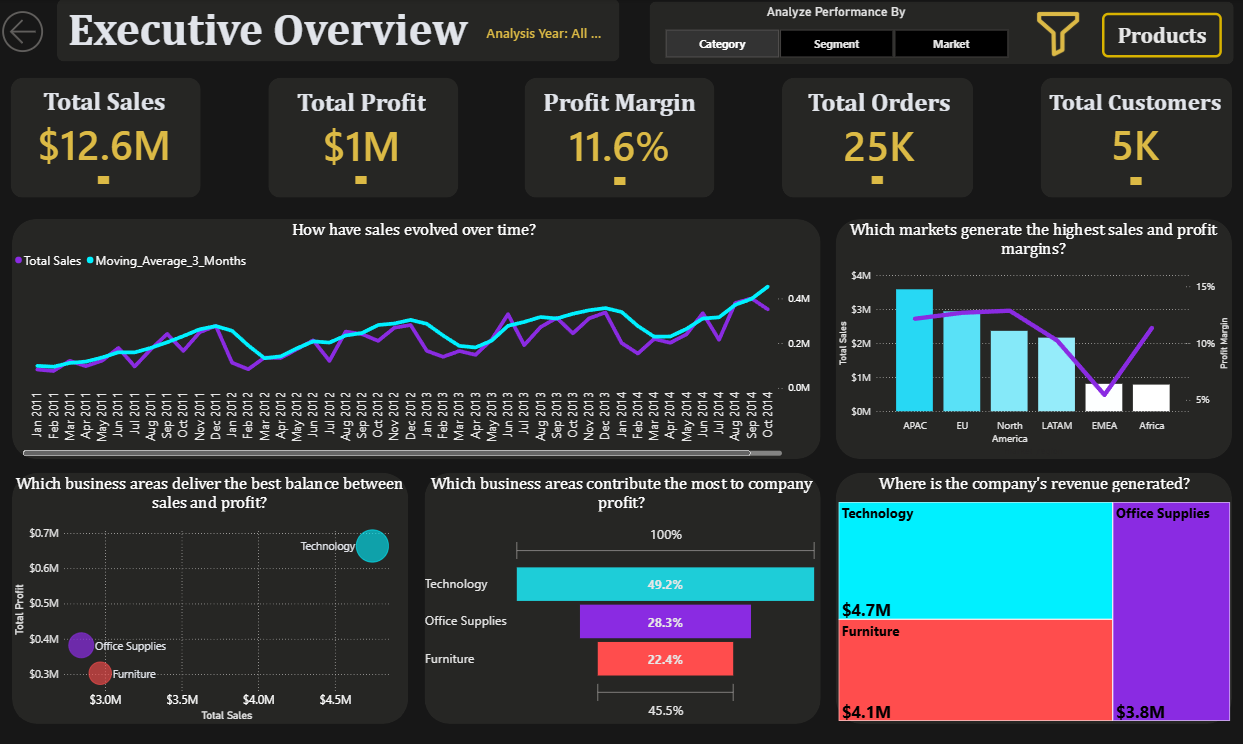

What the dashboard file says about the page in this screenshot:
{"tool":"powerbi","page":{"name":"Executive","canvas":[2005,1200],"ordinal":1},"visuals":[{"type":"shape","box":[21.9,126.7,305.6,193],"z":0},{"type":"shape","box":[96.5,0,904.8,100.5],"z":1000},{"type":"shape","box":[435.6,126.7,305.6,193],"z":2000},{"type":"shape","box":[589.1,458.4,721.4,89.4],"z":3000},{"type":"shape","box":[849.3,126.7,305.6,193],"z":4000},{"type":"shape","box":[24.1,353.9,1300.9,386.1],"z":5000},{"type":"shape","box":[1349.2,353.9,637.4,386.1],"z":6000},{"type":"shape","box":[1263.1,126.7,307.6,193],"z":7000},{"type":"shape","box":[1349.2,762.1,637.4,404.2],"z":8000},{"type":"shape","box":[1678.8,126.7,307.6,193],"z":9000},{"type":"shape","box":[687.7,762.1,637.4,404.2],"z":10000},{"type":"shape","box":[24.1,762.1,637.4,404.2],"z":11000},{"type":"textbox","box":[96.5,0,677.6,100.5],"z":12000},{"type":"cardVisual","fields":{"Data":["_Measures.Total Sales"]},"box":[22.1,126.7,301.6,162.9],"z":13000},{"type":"cardVisual","fields":{"Data":["_Measures.Total Profit"]},"box":[437.2,125.8,300.7,166.3],"z":14000},{"type":"cardVisual","fields":{"Data":["_Measures.Profit Margin"]},"box":[839,126.4,326.5,165.7],"z":15000},{"type":"cardVisual","fields":{"Data":["_Measures.Total Orders"]},"box":[1266.2,126.4,304.5,165.7],"z":16000},{"type":"cardVisual","fields":{"Data":["_Measures.Total Customers"]},"box":[1662.8,126.4,336.2,165.7],"z":17000},{"type":"lineChart","title":"How have sales evolved over time?","fields":{"Category":["public dim_date.year_month"],"Y":["_Measures.Total Sales"],"Y2":["_Measures.Moving_Average_3_Months"]},"box":[22.6,353.7,1296.7,385.7],"z":18000},{"type":"lineStackedColumnComboChart","title":"Which markets generate the highest sales and profit margins?","fields":{"Category":["public dim_location.market_region"],"Y":["_Measures.Total Sales"],"Y2":["_Measures.Profit Margin"]},"box":[1347.2,353.9,639.4,386.1],"z":19000},{"type":"treemap","title":"Where is the company''s revenue generated?","fields":{"Group":["public product_dim.category"],"Values":["_Measures.Total Sales"]},"box":[1349.2,762.1,639.4,404.2],"z":20000},{"type":"funnel","title":"Which business areas contribute the most to company profit?","fields":{"Category":["public product_dim.category"],"Y":["_Measures.Profit Contribution"]},"box":[683.2,762.7,641,405],"z":21000},{"type":"scatterChart","title":"Which business areas deliver the best balance between sales and profit?","fields":{"Series":["public product_dim.category"],"Size":["_Measures.Total Profit"],"X":["_Measures.Total Sales"],"Y":["_Measures.Total Profit"]},"box":[22.1,762.1,639.4,404.2],"z":22000},{"type":"shape","box":[1048.8,4.1,939.8,100.8],"z":23000},{"type":"slicer","title":"Analyze Performance By","fields":{"Values":["Analyzed By.Analyzed By"]},"box":[1048.8,8.2,600.5,92.5],"z":24000},{"type":"image","box":[1650.8,8,113.1,92.5],"z":26000},{"type":"cardVisual","fields":{"Data":["_Measures.YoY Sales Label"]},"box":[0,260,343.3,58.1],"z":28000},{"type":"cardVisual","fields":{"Data":["_Measures.YoY Profit Label"]},"box":[414.2,259.4,343.3,58.1],"z":29000},{"type":"cardVisual","fields":{"Data":["_Measures.YoY Profit Margin Label"]},"box":[830.4,261.4,343.3,58.1],"z":30000},{"type":"cardVisual","fields":{"Data":["_Measures.YoY Orders Label"]},"box":[1244.6,259.4,343.3,58.1],"z":31000},{"type":"cardVisual","fields":{"Data":["_Measures.YoY Customers Label"]},"box":[1660.9,261.4,343.3,58.1],"z":32000},{"type":"cardVisual","fields":{"Data":["_Measures.Selected Year"]},"box":[758,8,249.3,92.5],"z":34000},{"type":"actionButton","box":[0,0,82.4,104.6],"z":35000},{"type":"actionButton","box":[1777.5,22.1,193,72.4],"z":35001}]}

Visuals, with their boxes in screenshot pixels (x1, y1, x2, y2), scaled from the page's 2005x1200 canvas onto the 1243x744 screenshot:
shape: pyautogui.locateOnScreen(14, 79, 203, 198)
shape: pyautogui.locateOnScreen(60, 0, 621, 62)
shape: pyautogui.locateOnScreen(270, 79, 460, 198)
shape: pyautogui.locateOnScreen(365, 284, 812, 340)
shape: pyautogui.locateOnScreen(527, 79, 716, 198)
shape: pyautogui.locateOnScreen(15, 219, 821, 459)
shape: pyautogui.locateOnScreen(836, 219, 1232, 459)
shape: pyautogui.locateOnScreen(783, 79, 974, 198)
shape: pyautogui.locateOnScreen(836, 473, 1232, 723)
shape: pyautogui.locateOnScreen(1041, 79, 1231, 198)
shape: pyautogui.locateOnScreen(426, 473, 821, 723)
shape: pyautogui.locateOnScreen(15, 473, 410, 723)
textbox: pyautogui.locateOnScreen(60, 0, 480, 62)
cardVisual - _Measures.Total Sales: pyautogui.locateOnScreen(14, 79, 201, 180)
cardVisual - _Measures.Total Profit: pyautogui.locateOnScreen(271, 78, 457, 181)
cardVisual - _Measures.Profit Margin: pyautogui.locateOnScreen(520, 78, 723, 181)
cardVisual - _Measures.Total Orders: pyautogui.locateOnScreen(785, 78, 974, 181)
cardVisual - _Measures.Total Customers: pyautogui.locateOnScreen(1031, 78, 1239, 181)
"How have sales evolved over time?" lineChart: pyautogui.locateOnScreen(14, 219, 818, 458)
"Which markets generate the highest sales and profit margins?" lineStackedColumnComboChart: pyautogui.locateOnScreen(835, 219, 1232, 459)
"Where is the company''s revenue generated?" treemap: pyautogui.locateOnScreen(836, 473, 1233, 723)
"Which business areas contribute the most to company profit?" funnel: pyautogui.locateOnScreen(424, 473, 821, 724)
"Which business areas deliver the best balance between sales and profit?" scatterChart: pyautogui.locateOnScreen(14, 473, 410, 723)
shape: pyautogui.locateOnScreen(650, 3, 1233, 65)
"Analyze Performance By" slicer: pyautogui.locateOnScreen(650, 5, 1022, 62)
image: pyautogui.locateOnScreen(1023, 5, 1094, 62)
cardVisual - _Measures.YoY Sales Label: pyautogui.locateOnScreen(0, 161, 213, 197)
cardVisual - _Measures.YoY Profit Label: pyautogui.locateOnScreen(257, 161, 470, 197)
cardVisual - _Measures.YoY Profit Margin Label: pyautogui.locateOnScreen(515, 162, 728, 198)
cardVisual - _Measures.YoY Orders Label: pyautogui.locateOnScreen(772, 161, 984, 197)
cardVisual - _Measures.YoY Customers Label: pyautogui.locateOnScreen(1030, 162, 1242, 198)
cardVisual - _Measures.Selected Year: pyautogui.locateOnScreen(470, 5, 624, 62)
actionButton: pyautogui.locateOnScreen(0, 0, 51, 65)
actionButton: pyautogui.locateOnScreen(1102, 14, 1222, 59)
